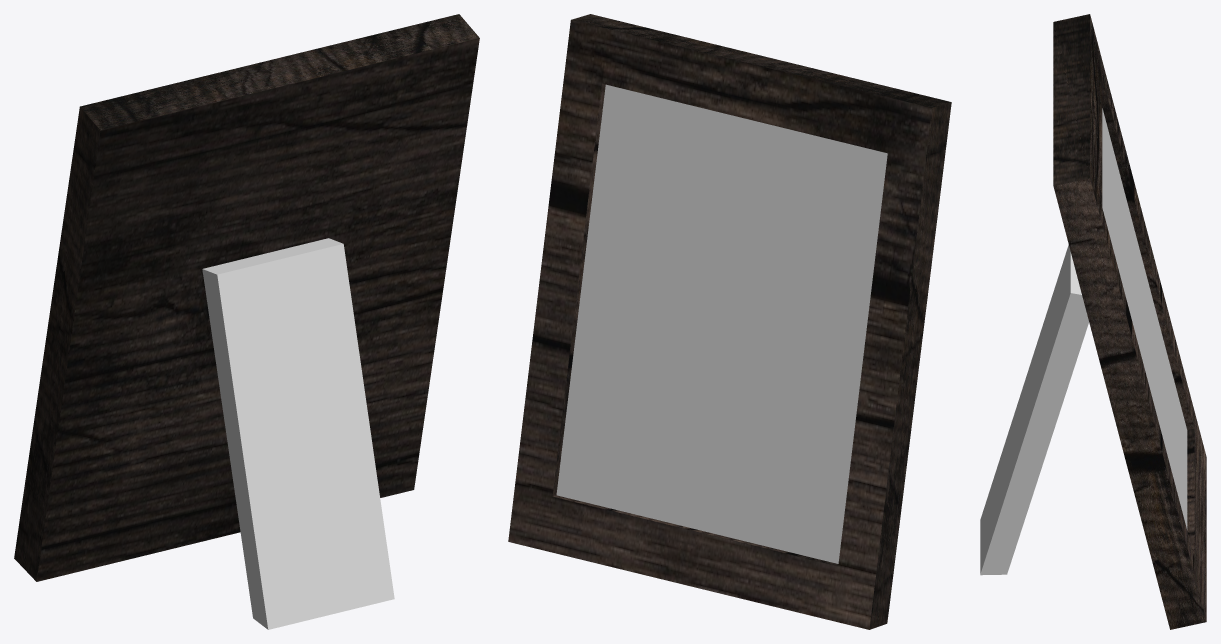
The model's file is Frame1.fbx.
3 views of the same model, side by side, from view 1: azimuth 30°, elevation 25°; view 2: azimuth 150°, elevation 25°; view 3: azimuth 270°, elevation 25° (orthographic). The views are drawn at different scales.
Visible parts, largest first — view 1: FramedPic; view 2: FramedPic; view 3: FramedPic.
Part boxes in pixels (<box>): FramedPic: <box>14,14,479,629</box>; FramedPic: <box>508,14,951,629</box>; FramedPic: <box>980,14,1206,629</box>.
Bounding box in the file's own units: 17.97 × 23.04 × 10.48.
